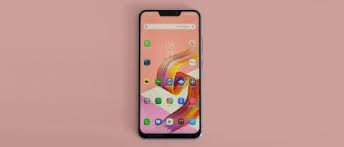asus: (135, 7, 204, 139)
